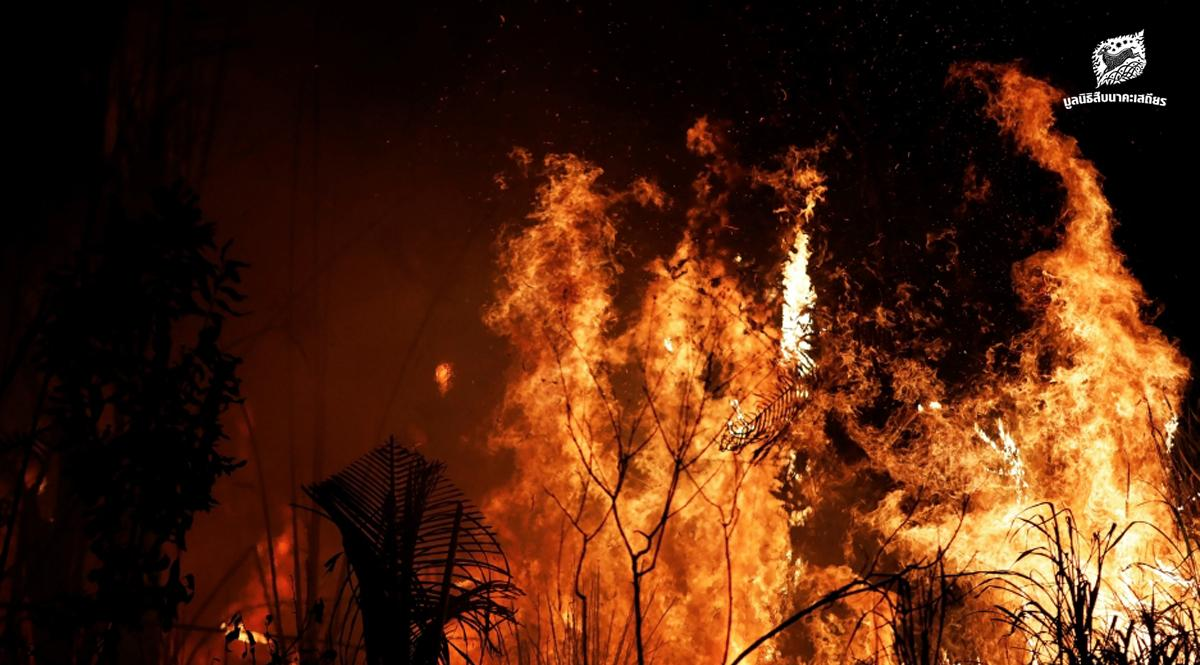fire: (183, 56, 1200, 665)
